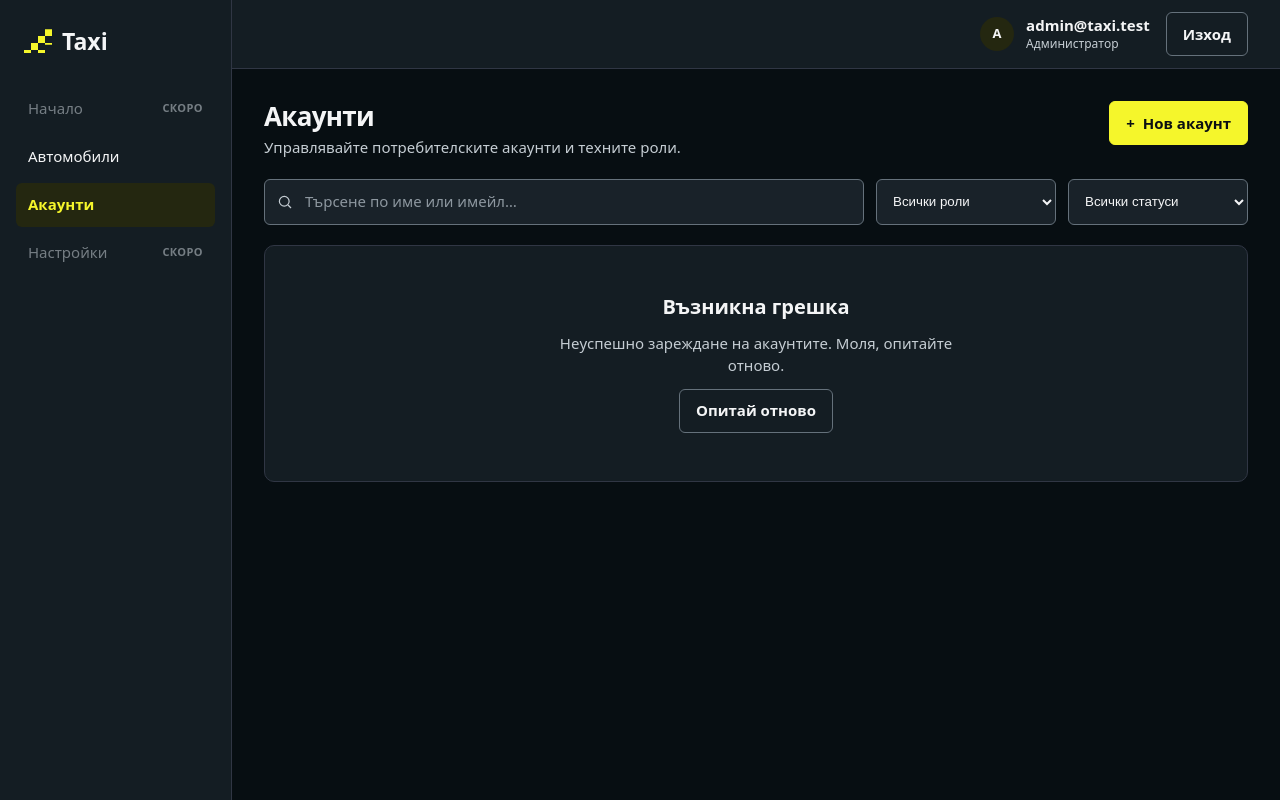
Test: AccountsPage (mocked account port, not live integration) › shows a retryable error when the list cannot be loaded
The width and height of the screenshot is (1280, 800).
Expected: the message shows "Неуспешно зареждане на акаунтите. Моля, опитайте отново.", x1=560 y1=333 x2=952 y2=375
Click the button "Опитай отново" at (756, 411), box x1=679 y1=389 x2=833 y2=433
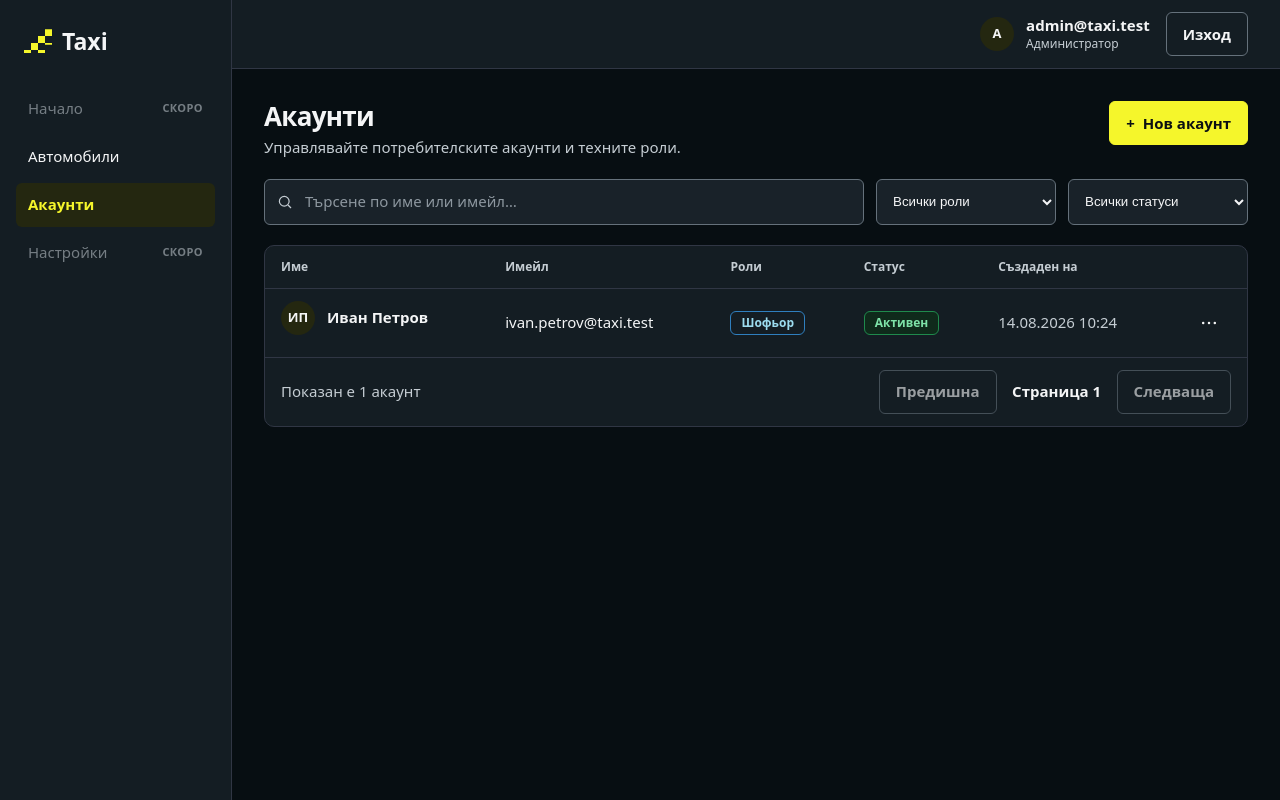
Expected: the text "Иван Петров" is shown, x1=327 y1=306 x2=428 y2=329
